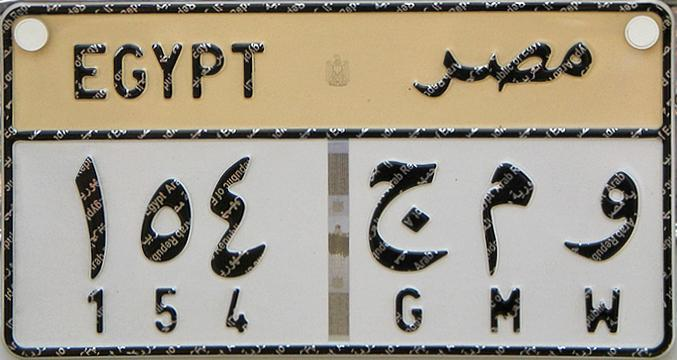1: (59, 159, 125, 285)
4: (203, 152, 270, 283)
5: (135, 164, 196, 270)
jeem: (361, 157, 449, 280)
meem: (462, 161, 544, 279)
waw: (561, 160, 646, 272)
